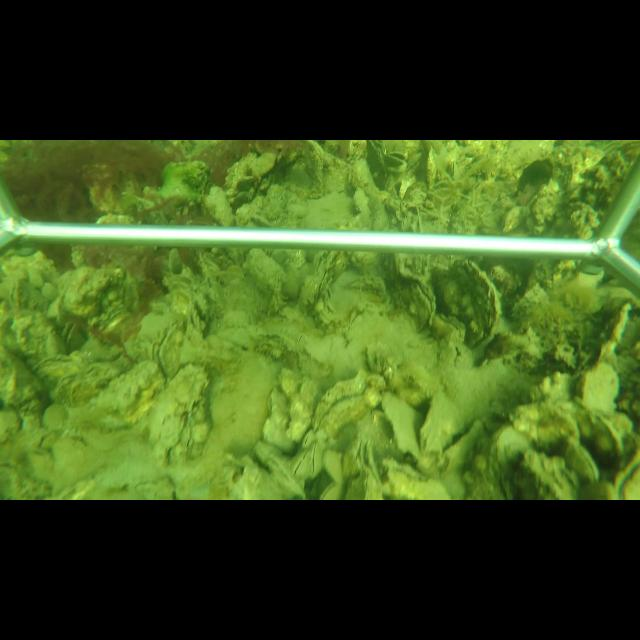Oyster-Closed: (144, 362, 210, 468), (75, 360, 162, 428), (379, 390, 447, 477), (456, 259, 502, 348), (312, 371, 364, 436), (252, 439, 308, 499), (417, 391, 468, 456), (244, 248, 286, 315), (577, 362, 621, 415), (305, 252, 344, 307), (156, 318, 189, 379), (404, 278, 436, 334), (564, 440, 602, 484), (363, 438, 380, 488), (322, 448, 343, 484), (309, 438, 322, 482), (292, 451, 310, 477), (425, 148, 437, 186), (319, 482, 342, 498)
Oyster-Open: (62, 321, 77, 348), (384, 150, 408, 166)
